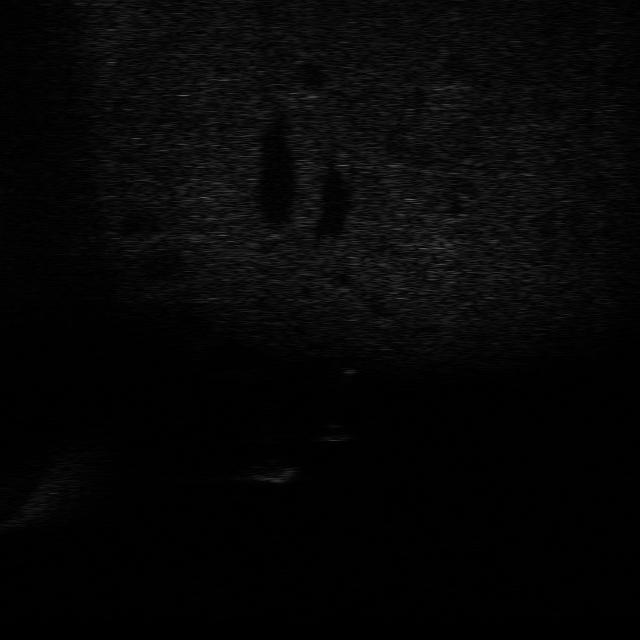ball: (314, 420, 358, 443)
human body: (321, 339, 361, 393)
square cage: (248, 454, 302, 486)
